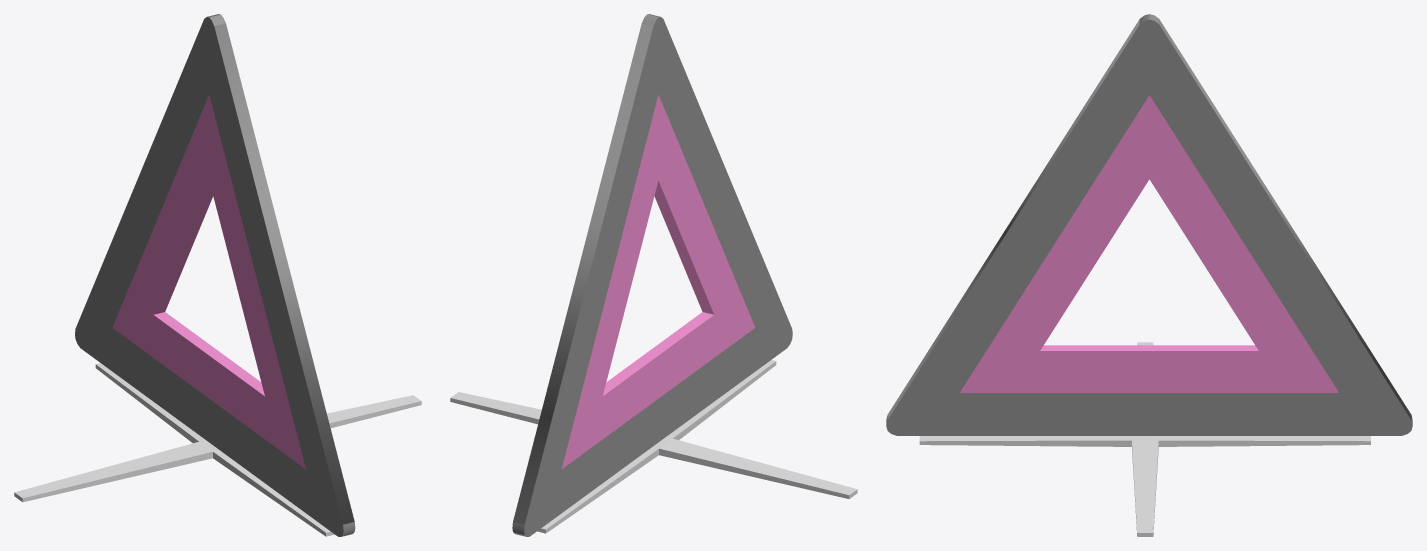
The model's file is Stopsign.FBX.
3 views of the same model, side by side, from view 1: azimuth 30°, elevation 25°; view 2: azimuth 150°, elevation 25°; view 3: azimuth 270°, elevation 25° (orthographic). The views are drawn at different scales.
Parts seen in each view (by area): view 1: Cylinder001, Box001; view 2: Cylinder001, Box001; view 3: Cylinder001, Box001.
Boxes of the visible parts, <box> form: Cylinder001: <box>75,14,355,536</box>; Box001: <box>14,363,421,536</box>; Cylinder001: <box>512,14,792,536</box>; Box001: <box>450,360,857,533</box>; Cylinder001: <box>886,14,1412,435</box>; Box001: <box>919,342,1370,536</box>.
Size of the model in its own units: 33.49 by 34.76 by 39.07.
